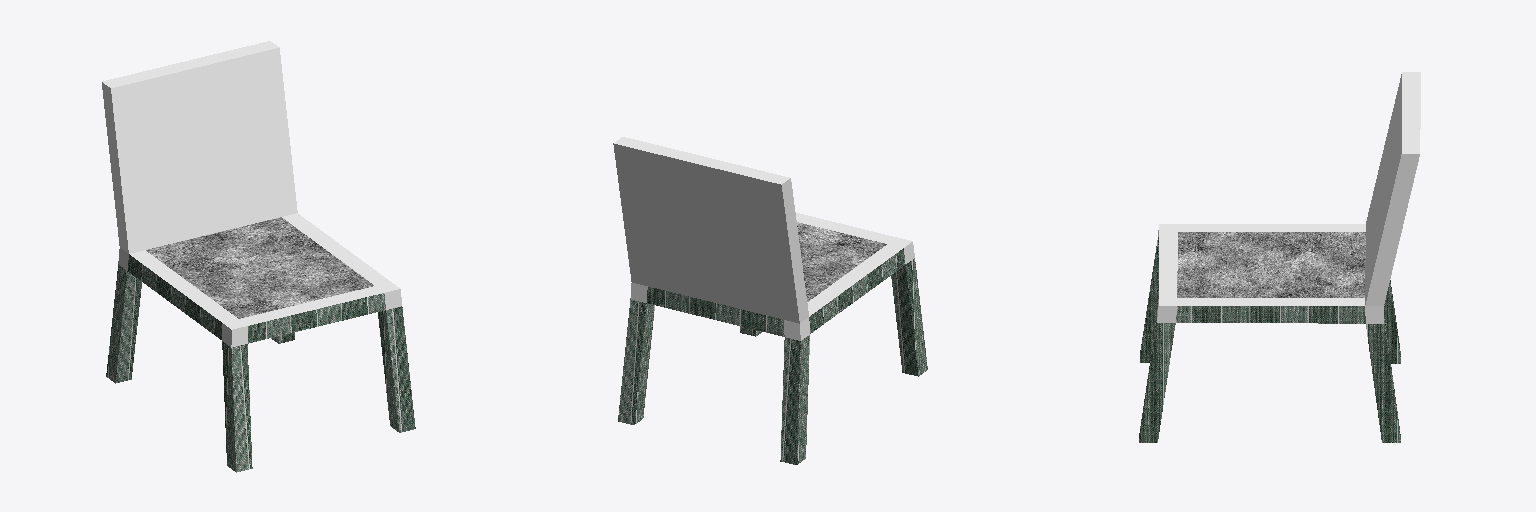
3 views of the same model, side by side, from view 1: azimuth 30°, elevation 25°; view 2: azimuth 150°, elevation 25°; view 3: azimuth 270°, elevation 25° (orthographic).
Parts seen in each view (by area): view 1: Rectangle60; view 2: Rectangle60; view 3: Rectangle60.
Part boxes in pixels (x1,y1,x2,y2): Rectangle60: (102, 41, 415, 472); Rectangle60: (613, 137, 927, 464); Rectangle60: (1139, 72, 1420, 442).
Bounding box in the file's own units: 44.32 × 67.56 × 60.18.
Materials: 4 (2 with a texture image).